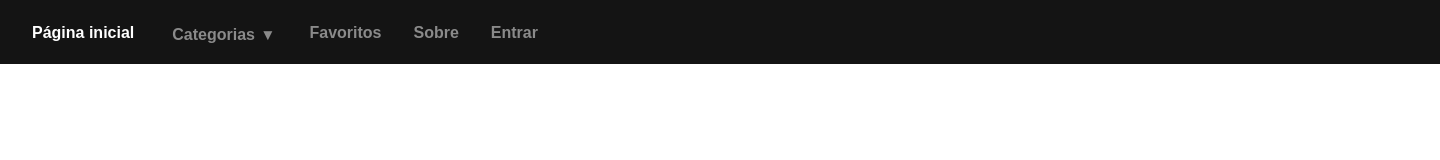
Test: Header Component (Unit Tests) › Deve buscar e renderizar categorias corretamente no dropdown
The image size is (1440, 160).
Click the button "Categorias ▾" at (222, 34), box [166,24,278,45]
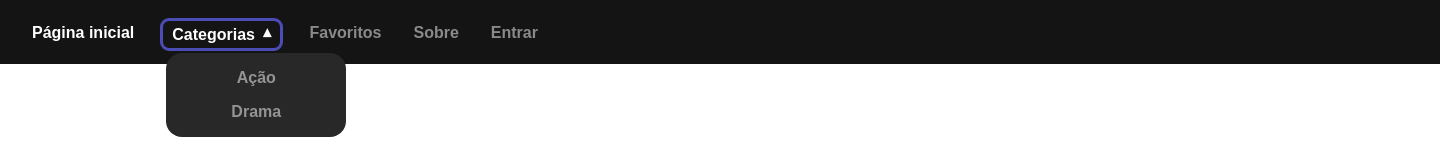
expect the link "Ação" is shown: met, box [237,69,276,86]
expect the link "Drama" is shown: met, box [231,103,281,120]
